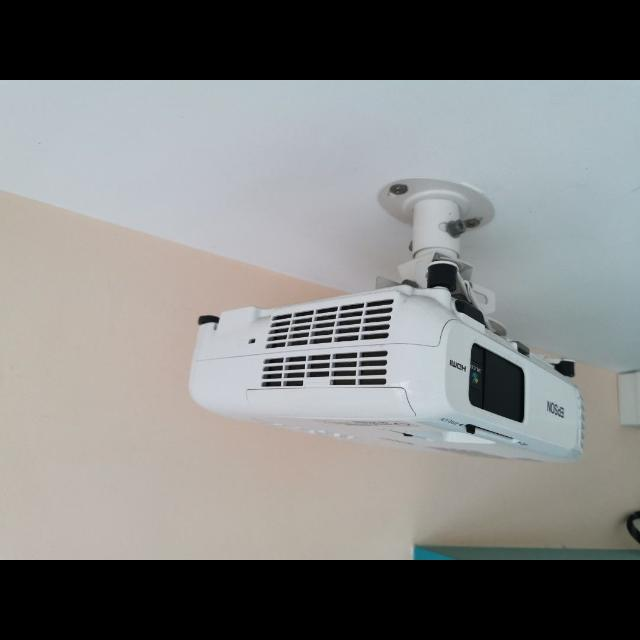Projector: (189, 291, 587, 467)
